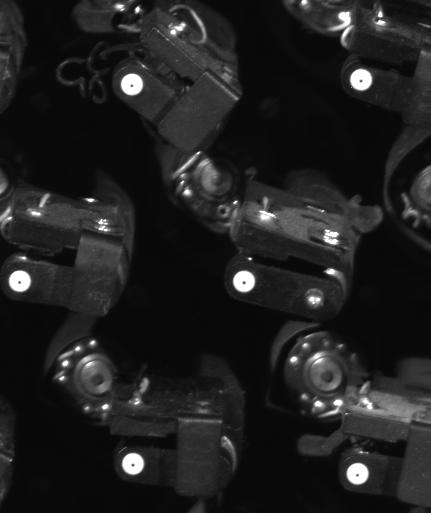fiber: (341, 60, 382, 99), (4, 264, 40, 300), (115, 70, 152, 102), (116, 447, 153, 479), (341, 458, 376, 491), (225, 266, 263, 296)
